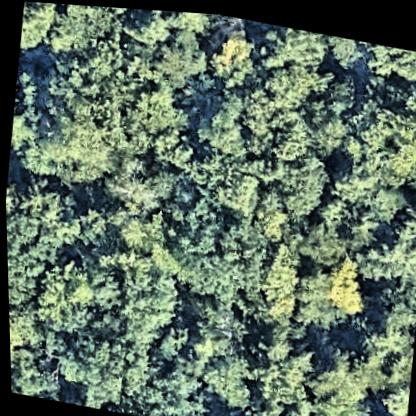tree-top: (7, 75, 127, 191), (159, 184, 267, 310), (81, 241, 185, 341), (344, 92, 416, 191), (5, 206, 60, 326), (23, 174, 105, 253), (51, 329, 128, 412), (322, 157, 410, 227), (22, 254, 96, 337), (265, 139, 336, 224), (247, 232, 310, 325), (335, 315, 412, 390), (124, 347, 207, 416), (188, 80, 256, 158), (44, 2, 121, 65), (343, 219, 413, 288), (145, 21, 210, 90), (201, 20, 263, 91), (316, 243, 375, 317), (256, 19, 333, 71), (257, 48, 319, 111), (305, 360, 369, 416), (243, 363, 305, 416), (128, 82, 181, 141), (203, 347, 256, 402), (16, 1, 59, 68), (358, 36, 416, 82), (115, 160, 161, 217), (190, 299, 245, 345), (8, 345, 52, 398), (311, 102, 353, 148), (130, 7, 178, 46), (326, 31, 369, 73), (255, 323, 288, 360), (299, 409, 356, 416)
